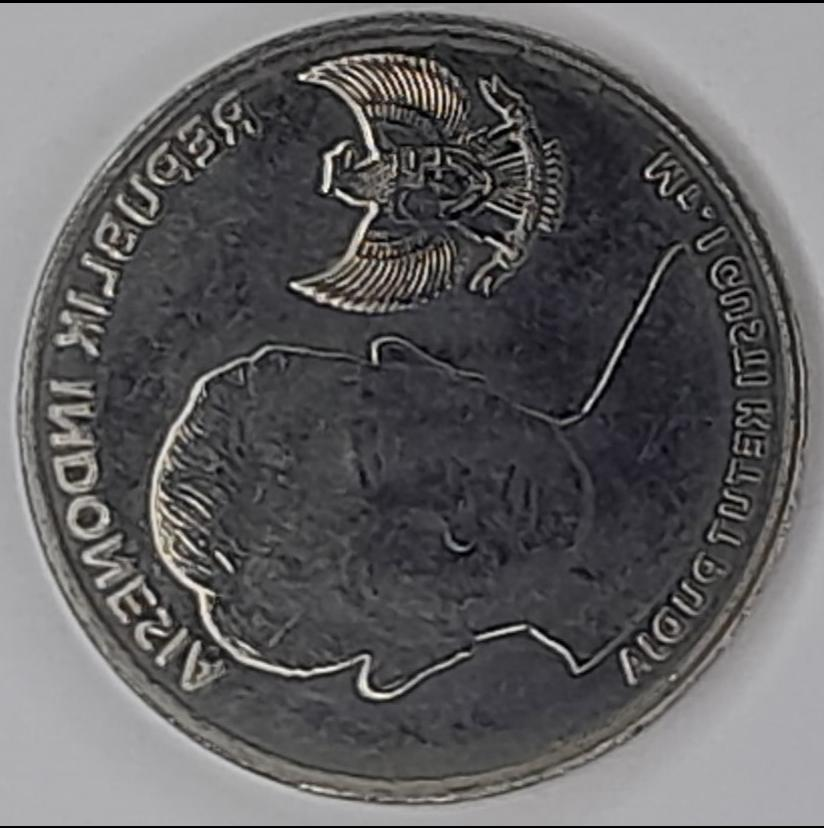coin_1000_e2016: (14, 16, 813, 828)
